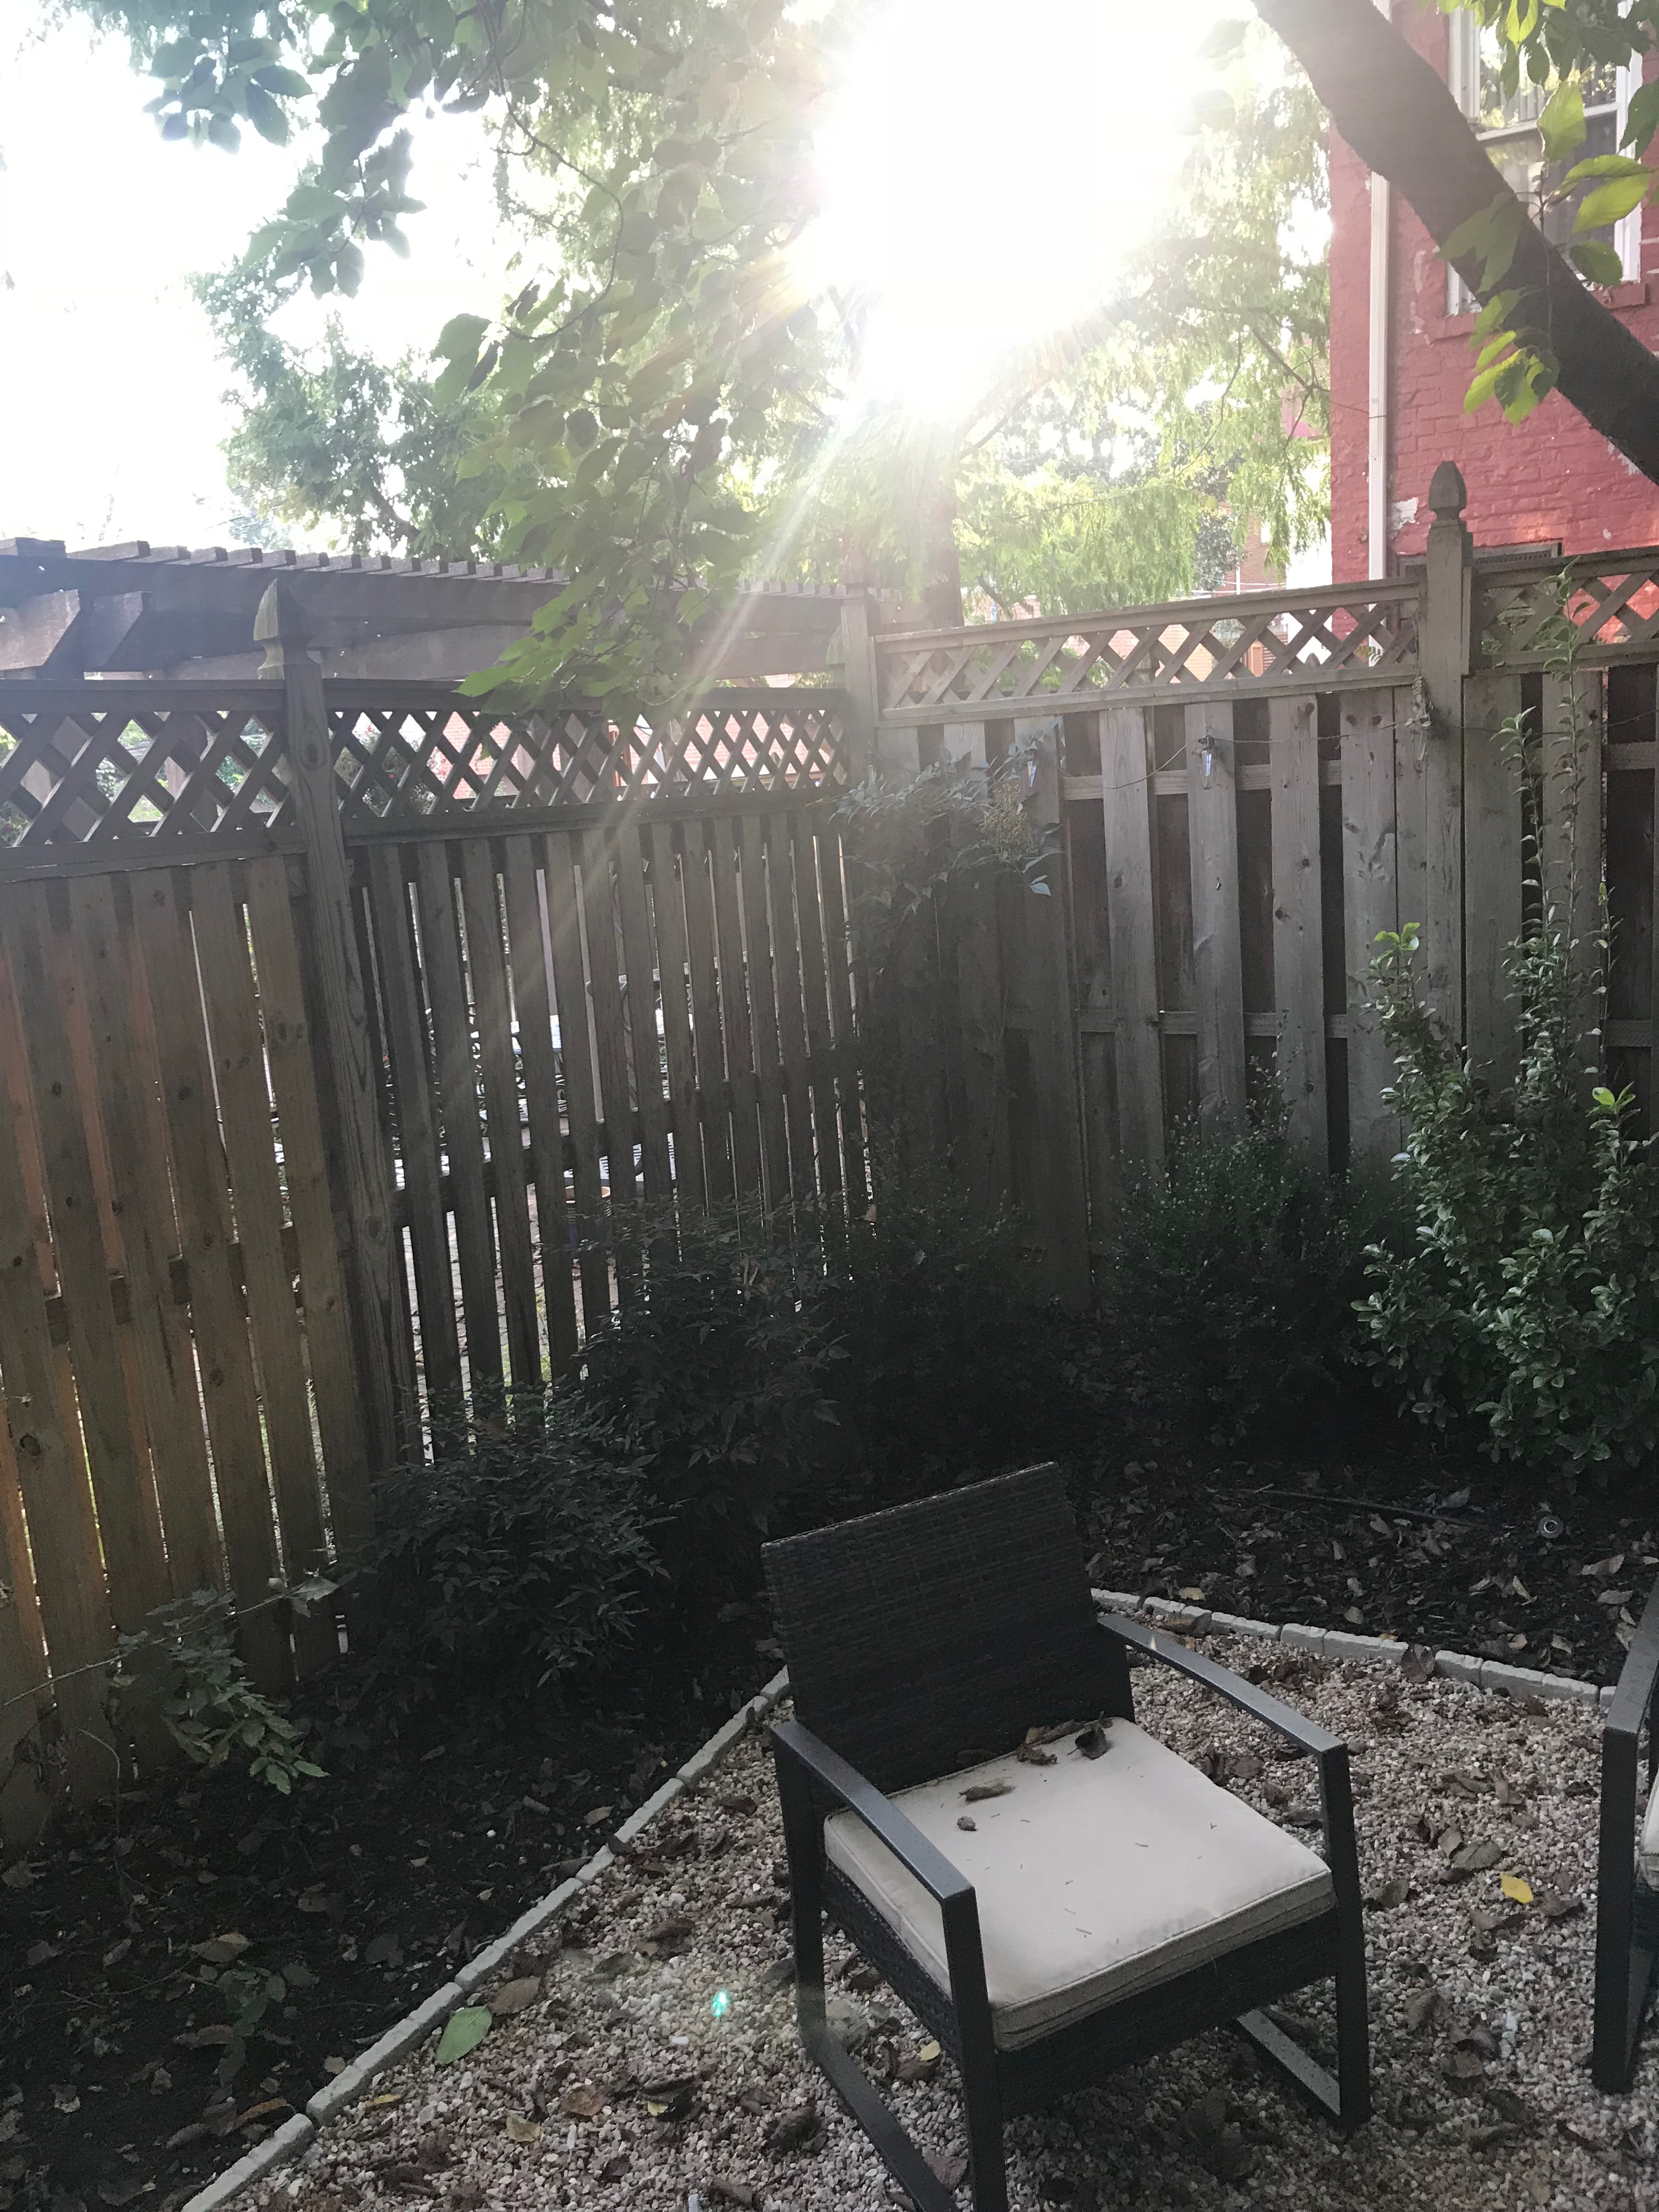flare: (709, 1989, 732, 2019)
